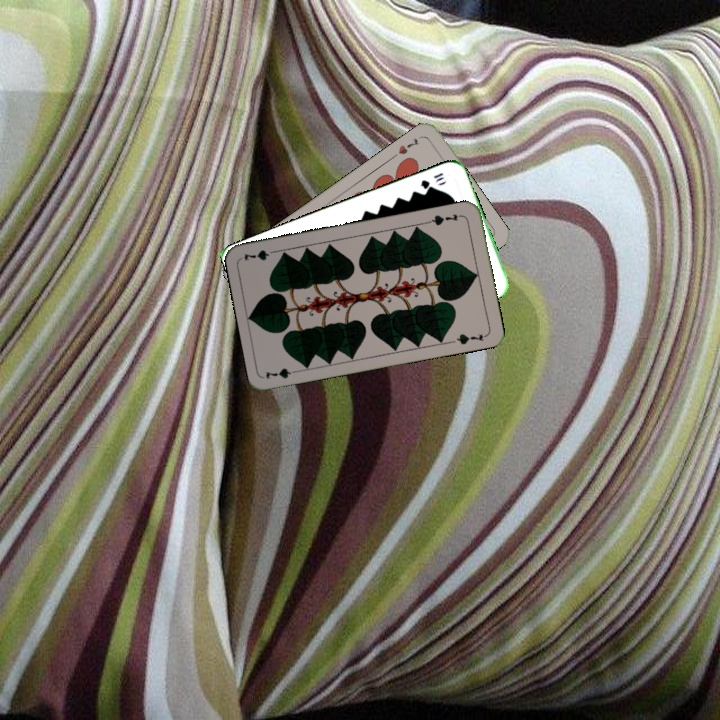G10: (417, 168, 447, 192)
G7: (425, 209, 465, 228), (262, 364, 303, 381)
H7: (389, 134, 422, 161)
